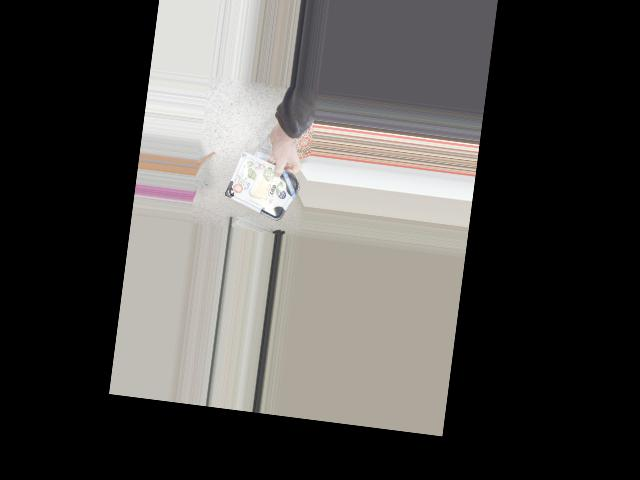cheese: (228, 161, 296, 216)
